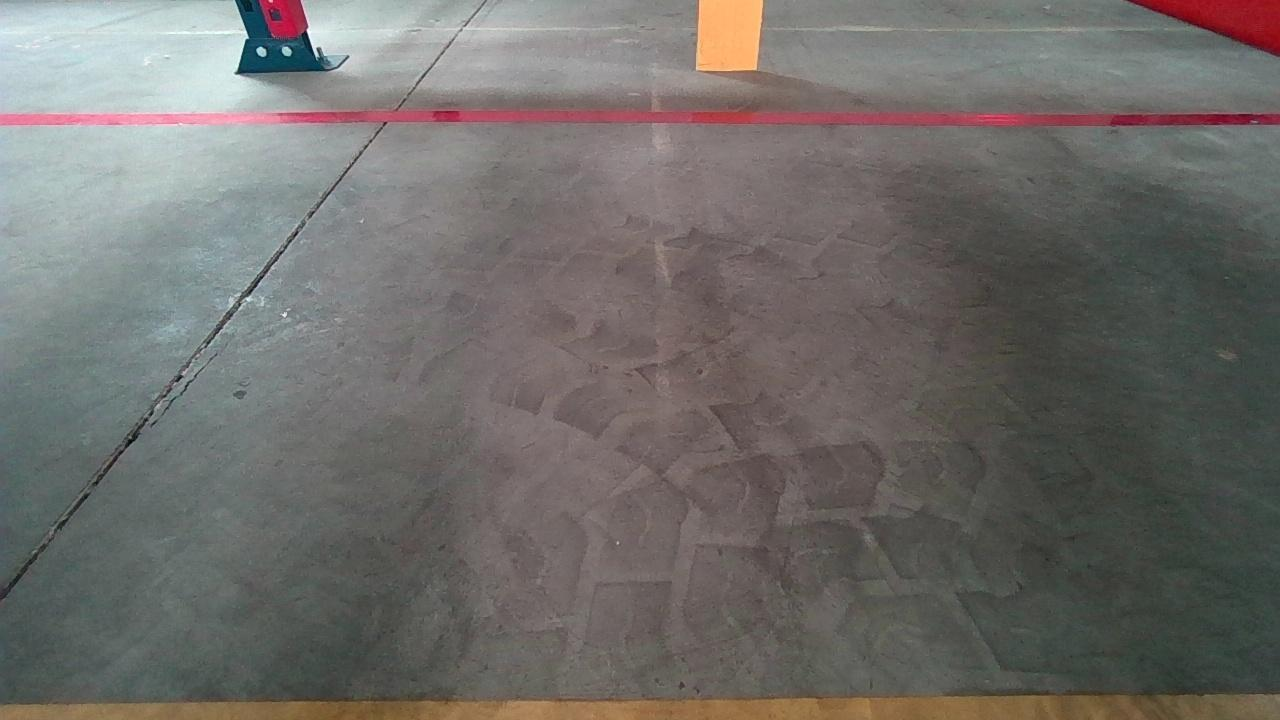h_rack: (0, 110, 1280, 126)
orange_strip: (696, 0, 763, 71)
